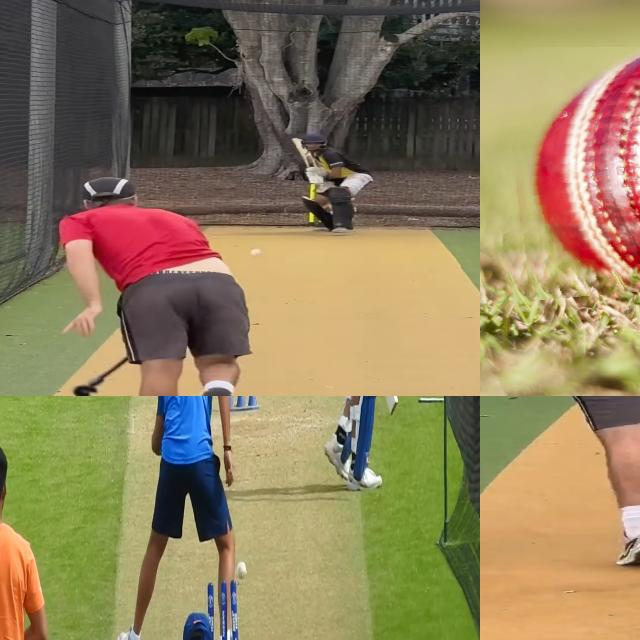Cricket ball: (504, 47, 640, 301), (235, 558, 247, 586), (249, 249, 262, 257)
